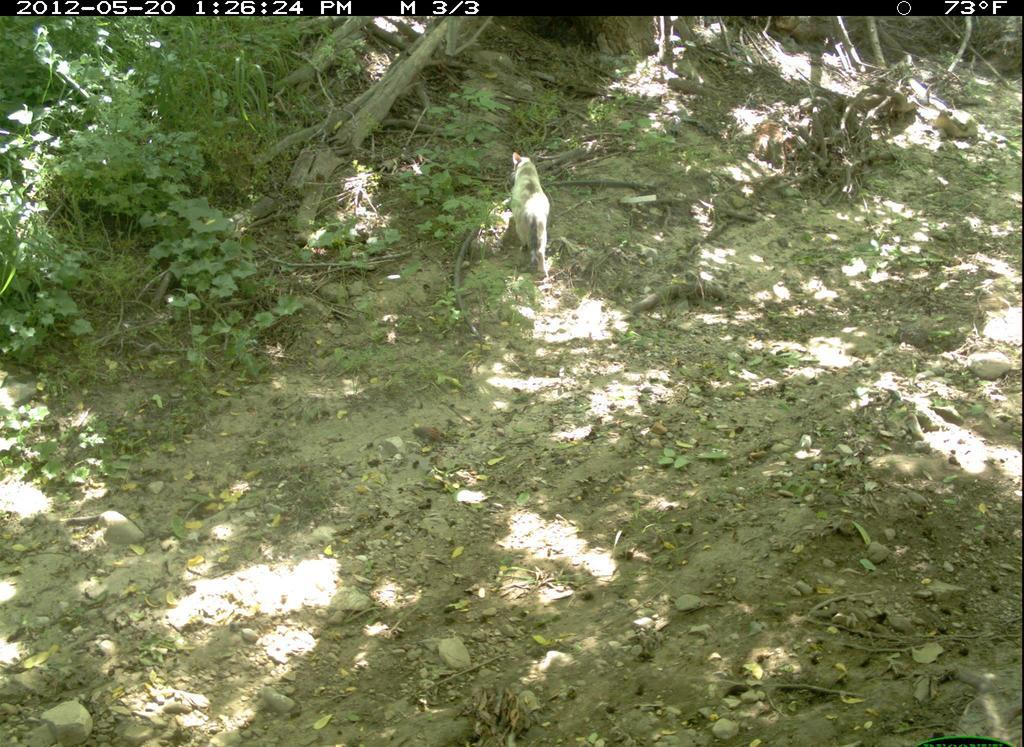cat: (487, 141, 562, 271)
